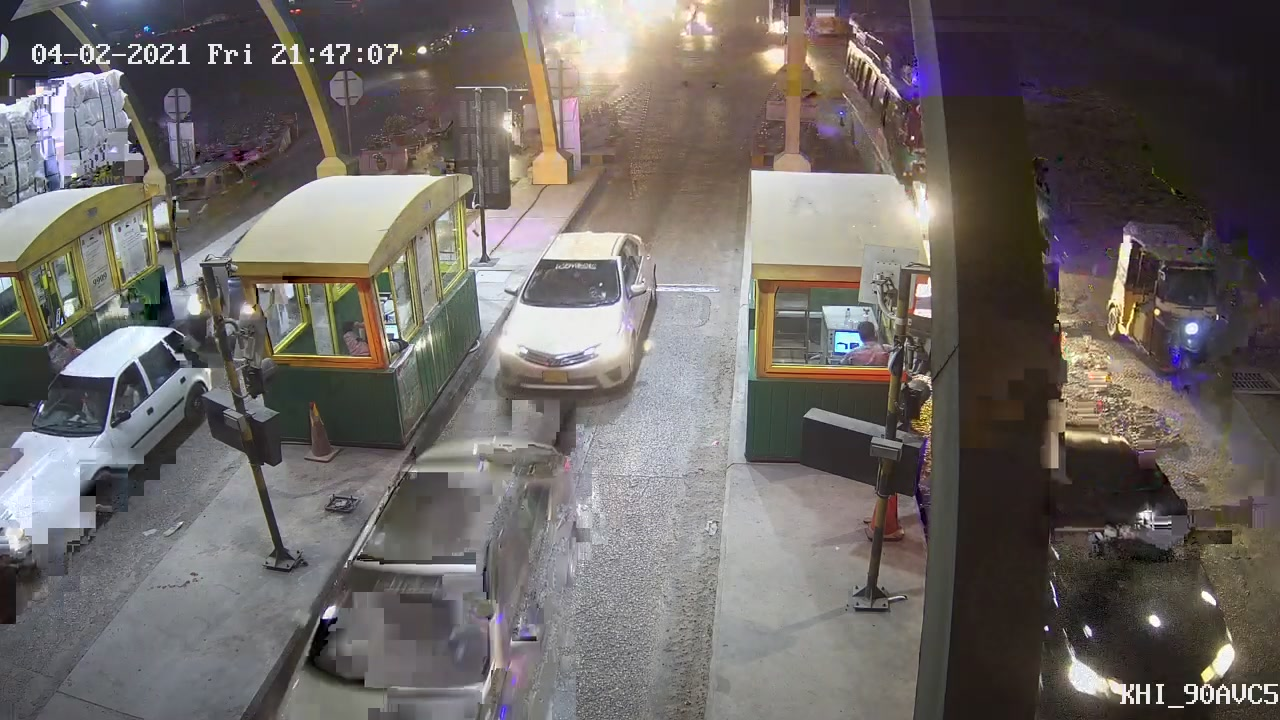F1: (483, 225, 670, 399)
